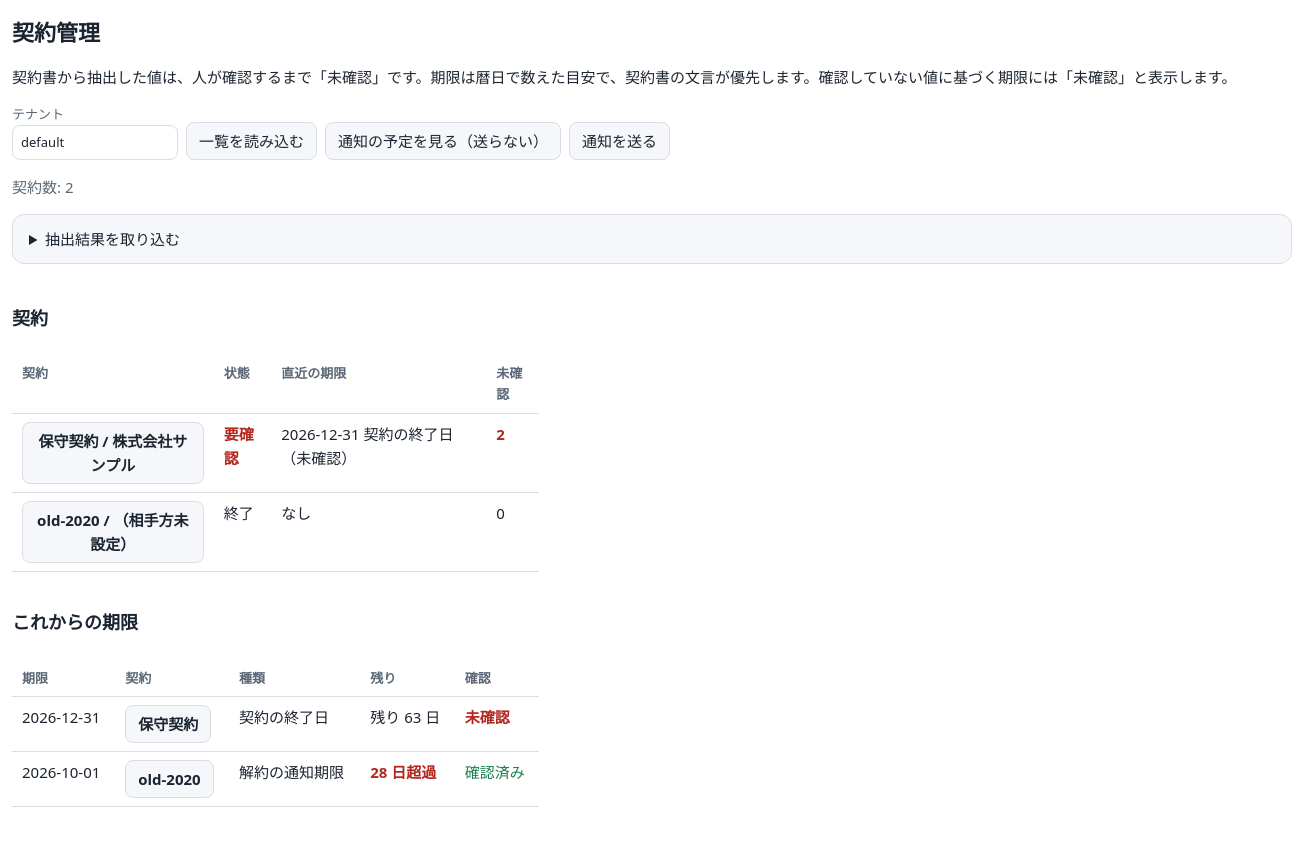
the contract detail › says plainly when the administrator may not change it (403)
The image size is (1292, 851).
Click the button with aria-label "保守契約 / 株式会社サンプル の詳細を開く" at (113, 453), box [22, 422, 204, 484]
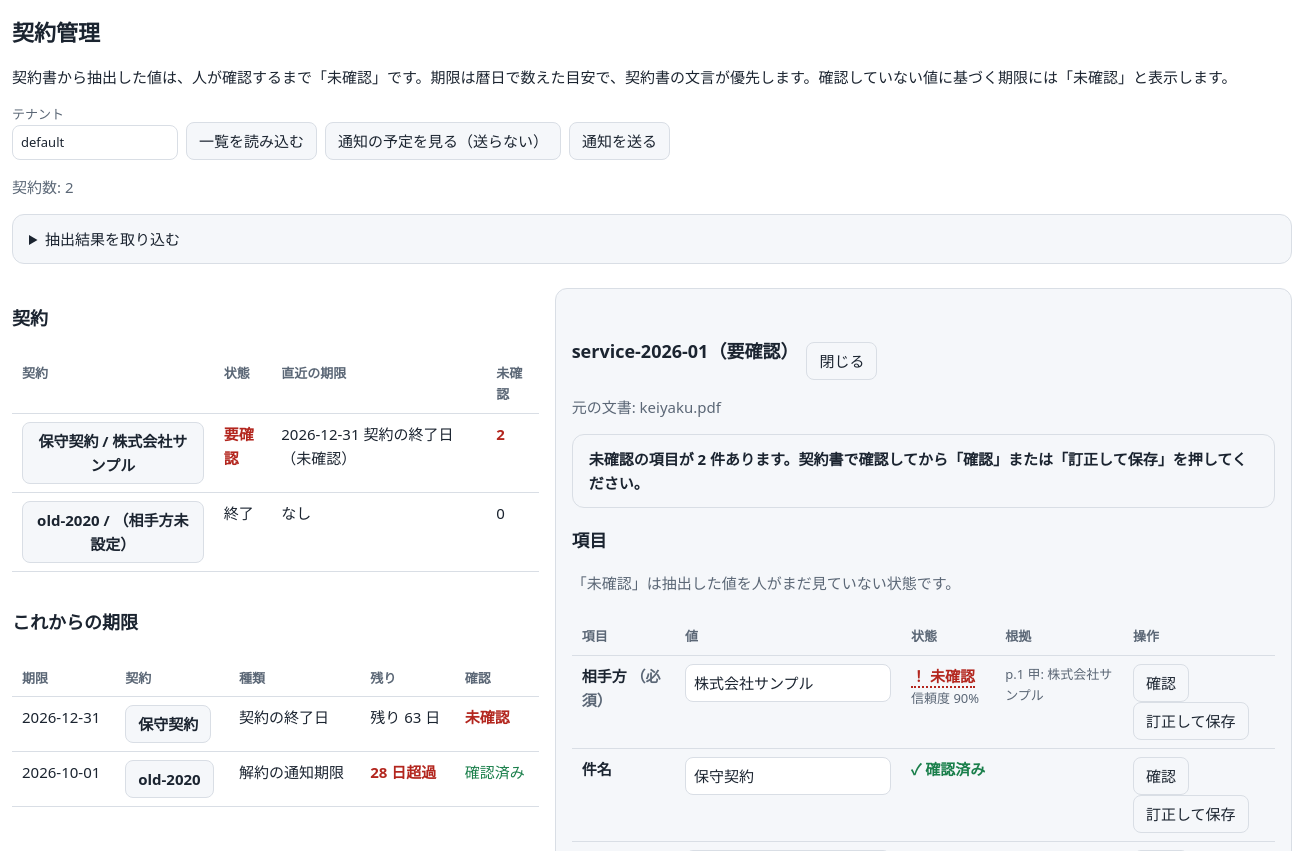
Click the button with aria-label "相手方 を確認" at (1161, 683), box [1133, 664, 1189, 702]
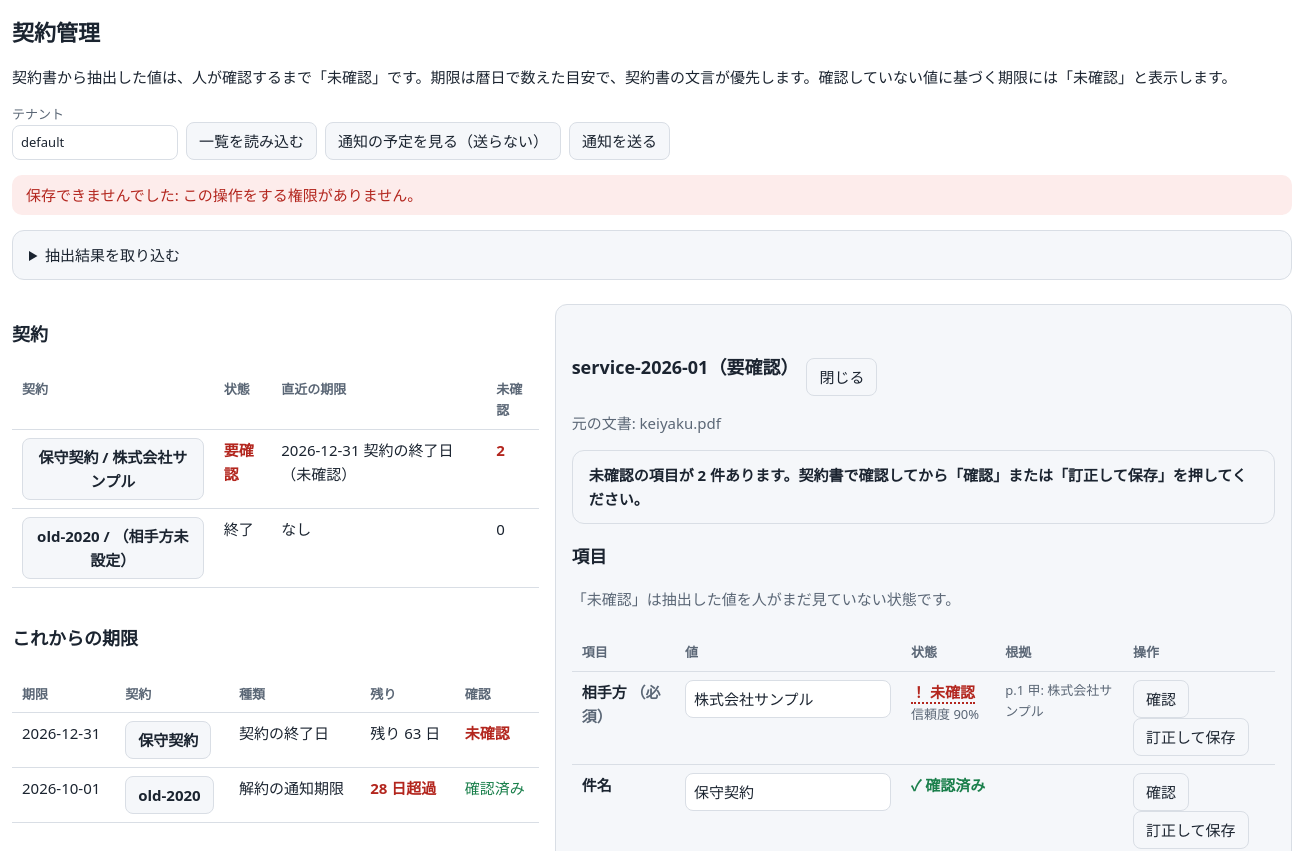
Now the message shows "この操作をする権限がありません", box [26, 184, 422, 204]
